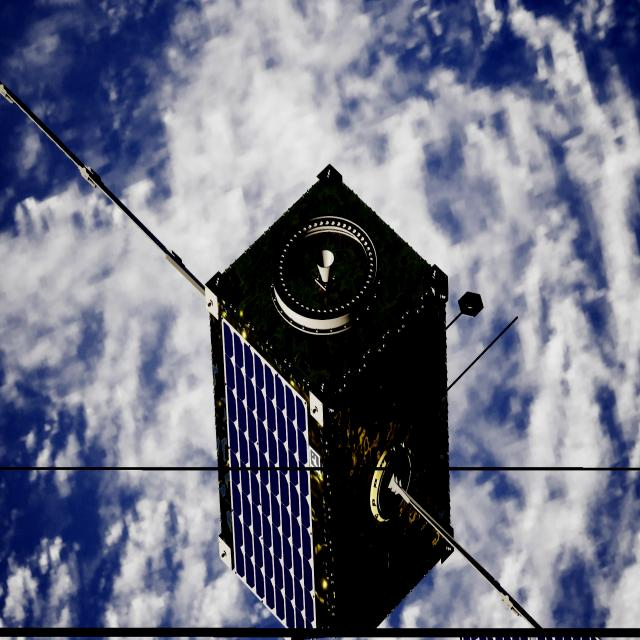medium_debris: (204, 165, 458, 640)
